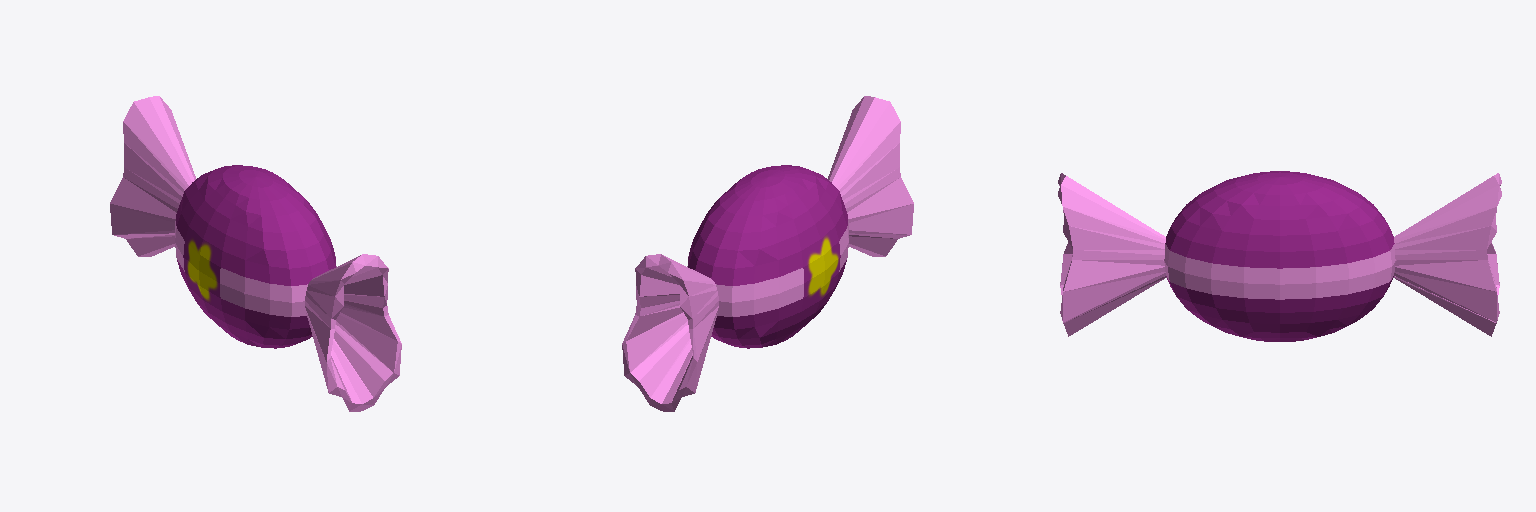
3 views of the same model, side by side, from view 1: azimuth 30°, elevation 25°; view 2: azimuth 150°, elevation 25°; view 3: azimuth 270°, elevation 25° (orthographic).
Visible parts, largest first — view 1: Sphere, Cone; view 2: Sphere, Cone; view 3: Sphere, Cone.
Boxes of the visible parts, x1=… form: Sphere: x1=175, y1=165, x2=336, y2=348; Cone: x1=110, y1=96, x2=401, y2=411; Sphere: x1=687, y1=165, x2=848, y2=348; Cone: x1=622, y1=96, x2=913, y2=411; Sphere: x1=1164, y1=171, x2=1395, y2=341; Cone: x1=1058, y1=173, x2=1501, y2=336.
Size of the model in its own units: 1.01 by 1.36 by 3.4.
3 materials, 3 textured.